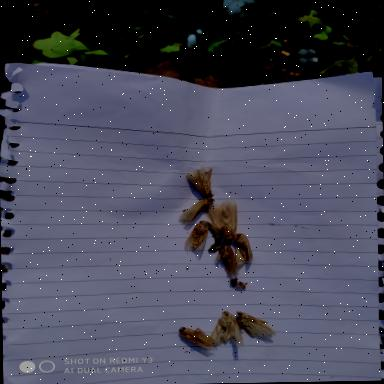abw: (232, 302, 278, 342), (177, 193, 222, 228), (206, 196, 240, 242), (210, 308, 244, 350), (177, 323, 219, 350), (184, 166, 218, 198), (181, 216, 209, 252), (216, 243, 240, 276), (233, 231, 253, 266)
